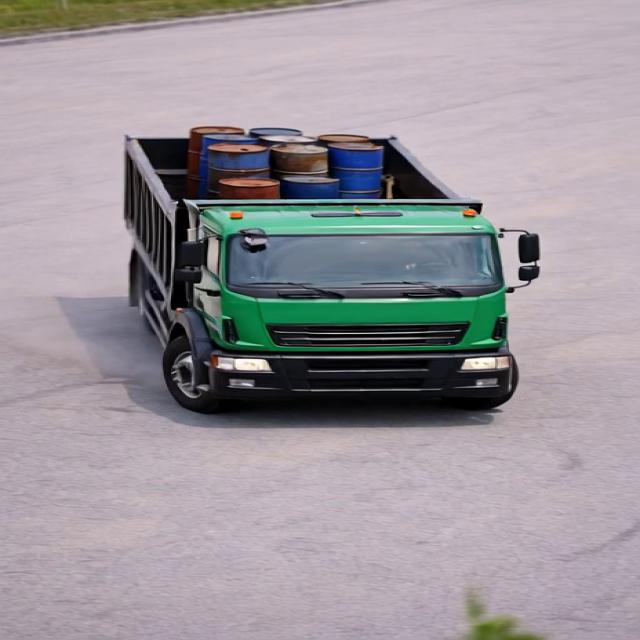Box: (121, 128, 491, 201)
Truck: (97, 104, 547, 413)
